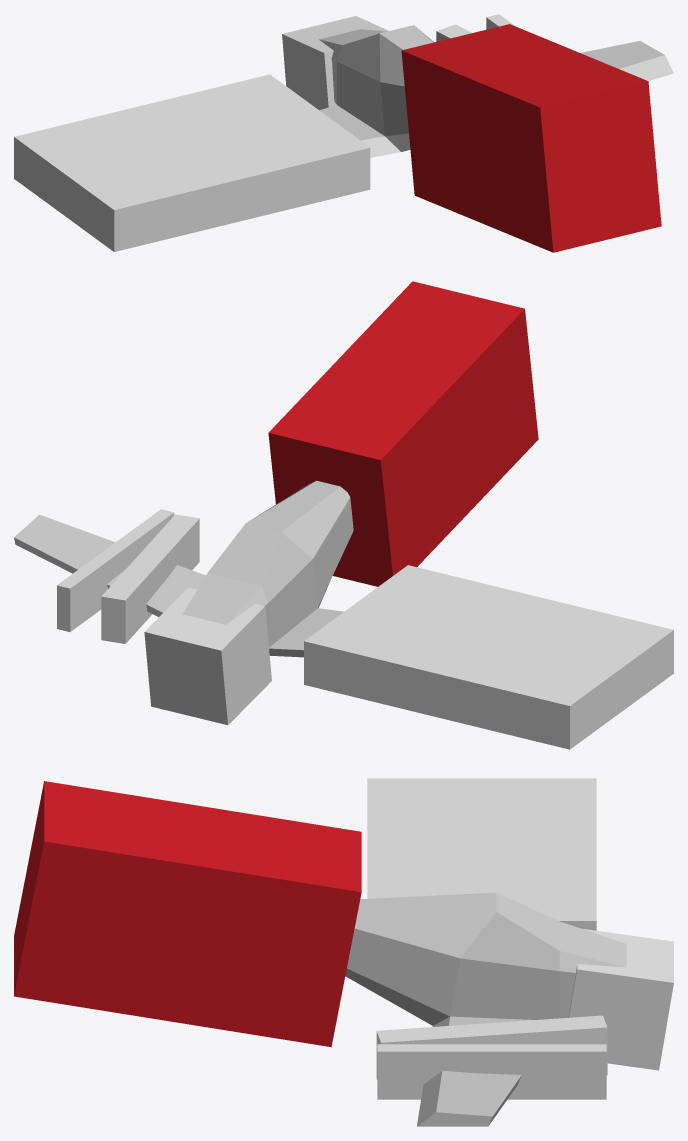
Rendered from plane_trainer.gltf.
3 renders of one model, top to bottom at view 1: azimuth 30°, elevation 25°; view 2: azimuth 150°, elevation 25°; view 3: azimuth 270°, elevation 25°, orthographic. The views are drawn at different scales.
Visible parts, largest first — view 1: Cube, Cube.004, TrainerPlane, Cube.001; view 2: Cube, Cube.004, TrainerPlane, Cube.001, Cube.002, Cube.003; view 3: Cube, TrainerPlane, Cube.004, Cube.003, Cube.001, Cube.002.
Part boxes in pixels (box(x1,y1,x2,y2)): Cube: box(401, 24, 661, 252); Cube.004: box(14, 74, 370, 251); TrainerPlane: box(319, 25, 673, 157); Cube.001: box(282, 16, 388, 110); Cube: box(268, 281, 538, 586); Cube.004: box(304, 565, 673, 749); TrainerPlane: box(14, 480, 353, 657); Cube.001: box(144, 587, 271, 725); Cube.002: box(101, 514, 199, 643); Cube.003: box(57, 509, 174, 631); Cube: box(14, 781, 361, 1047); TrainerPlane: box(345, 892, 626, 1126); Cube.004: box(367, 778, 596, 930); Cube.003: box(377, 1044, 606, 1099); Cube.001: box(568, 928, 673, 1070); Cube.002: box(376, 1015, 607, 1079).
Size of the model in its own units: 6.7 by 2.3 by 5.76.
